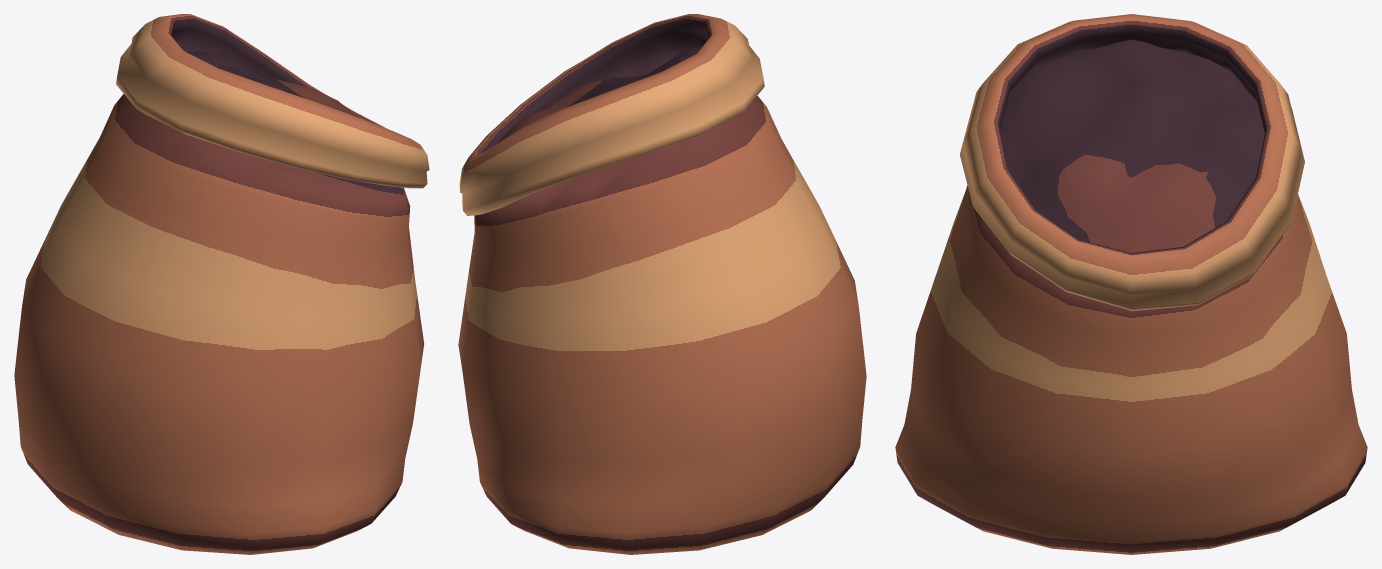
The model's file is Bolsa_03.fbx.
The picture shows the model from 3 angles, left to right: view 1: azimuth 30°, elevation 25°; view 2: azimuth 150°, elevation 25°; view 3: azimuth 270°, elevation 25°; orthographic projection. The views are drawn at different scales.
Visible parts, largest first — view 1: Bolsa_03; view 2: Bolsa_03; view 3: Bolsa_03.
Part boxes in pixels (x1,y1,x2,y2): Bolsa_03: (14,14,429,554); Bolsa_03: (458,14,866,554); Bolsa_03: (895,14,1367,554).
Bounding box in the file's own units: 106 × 125 × 115.
